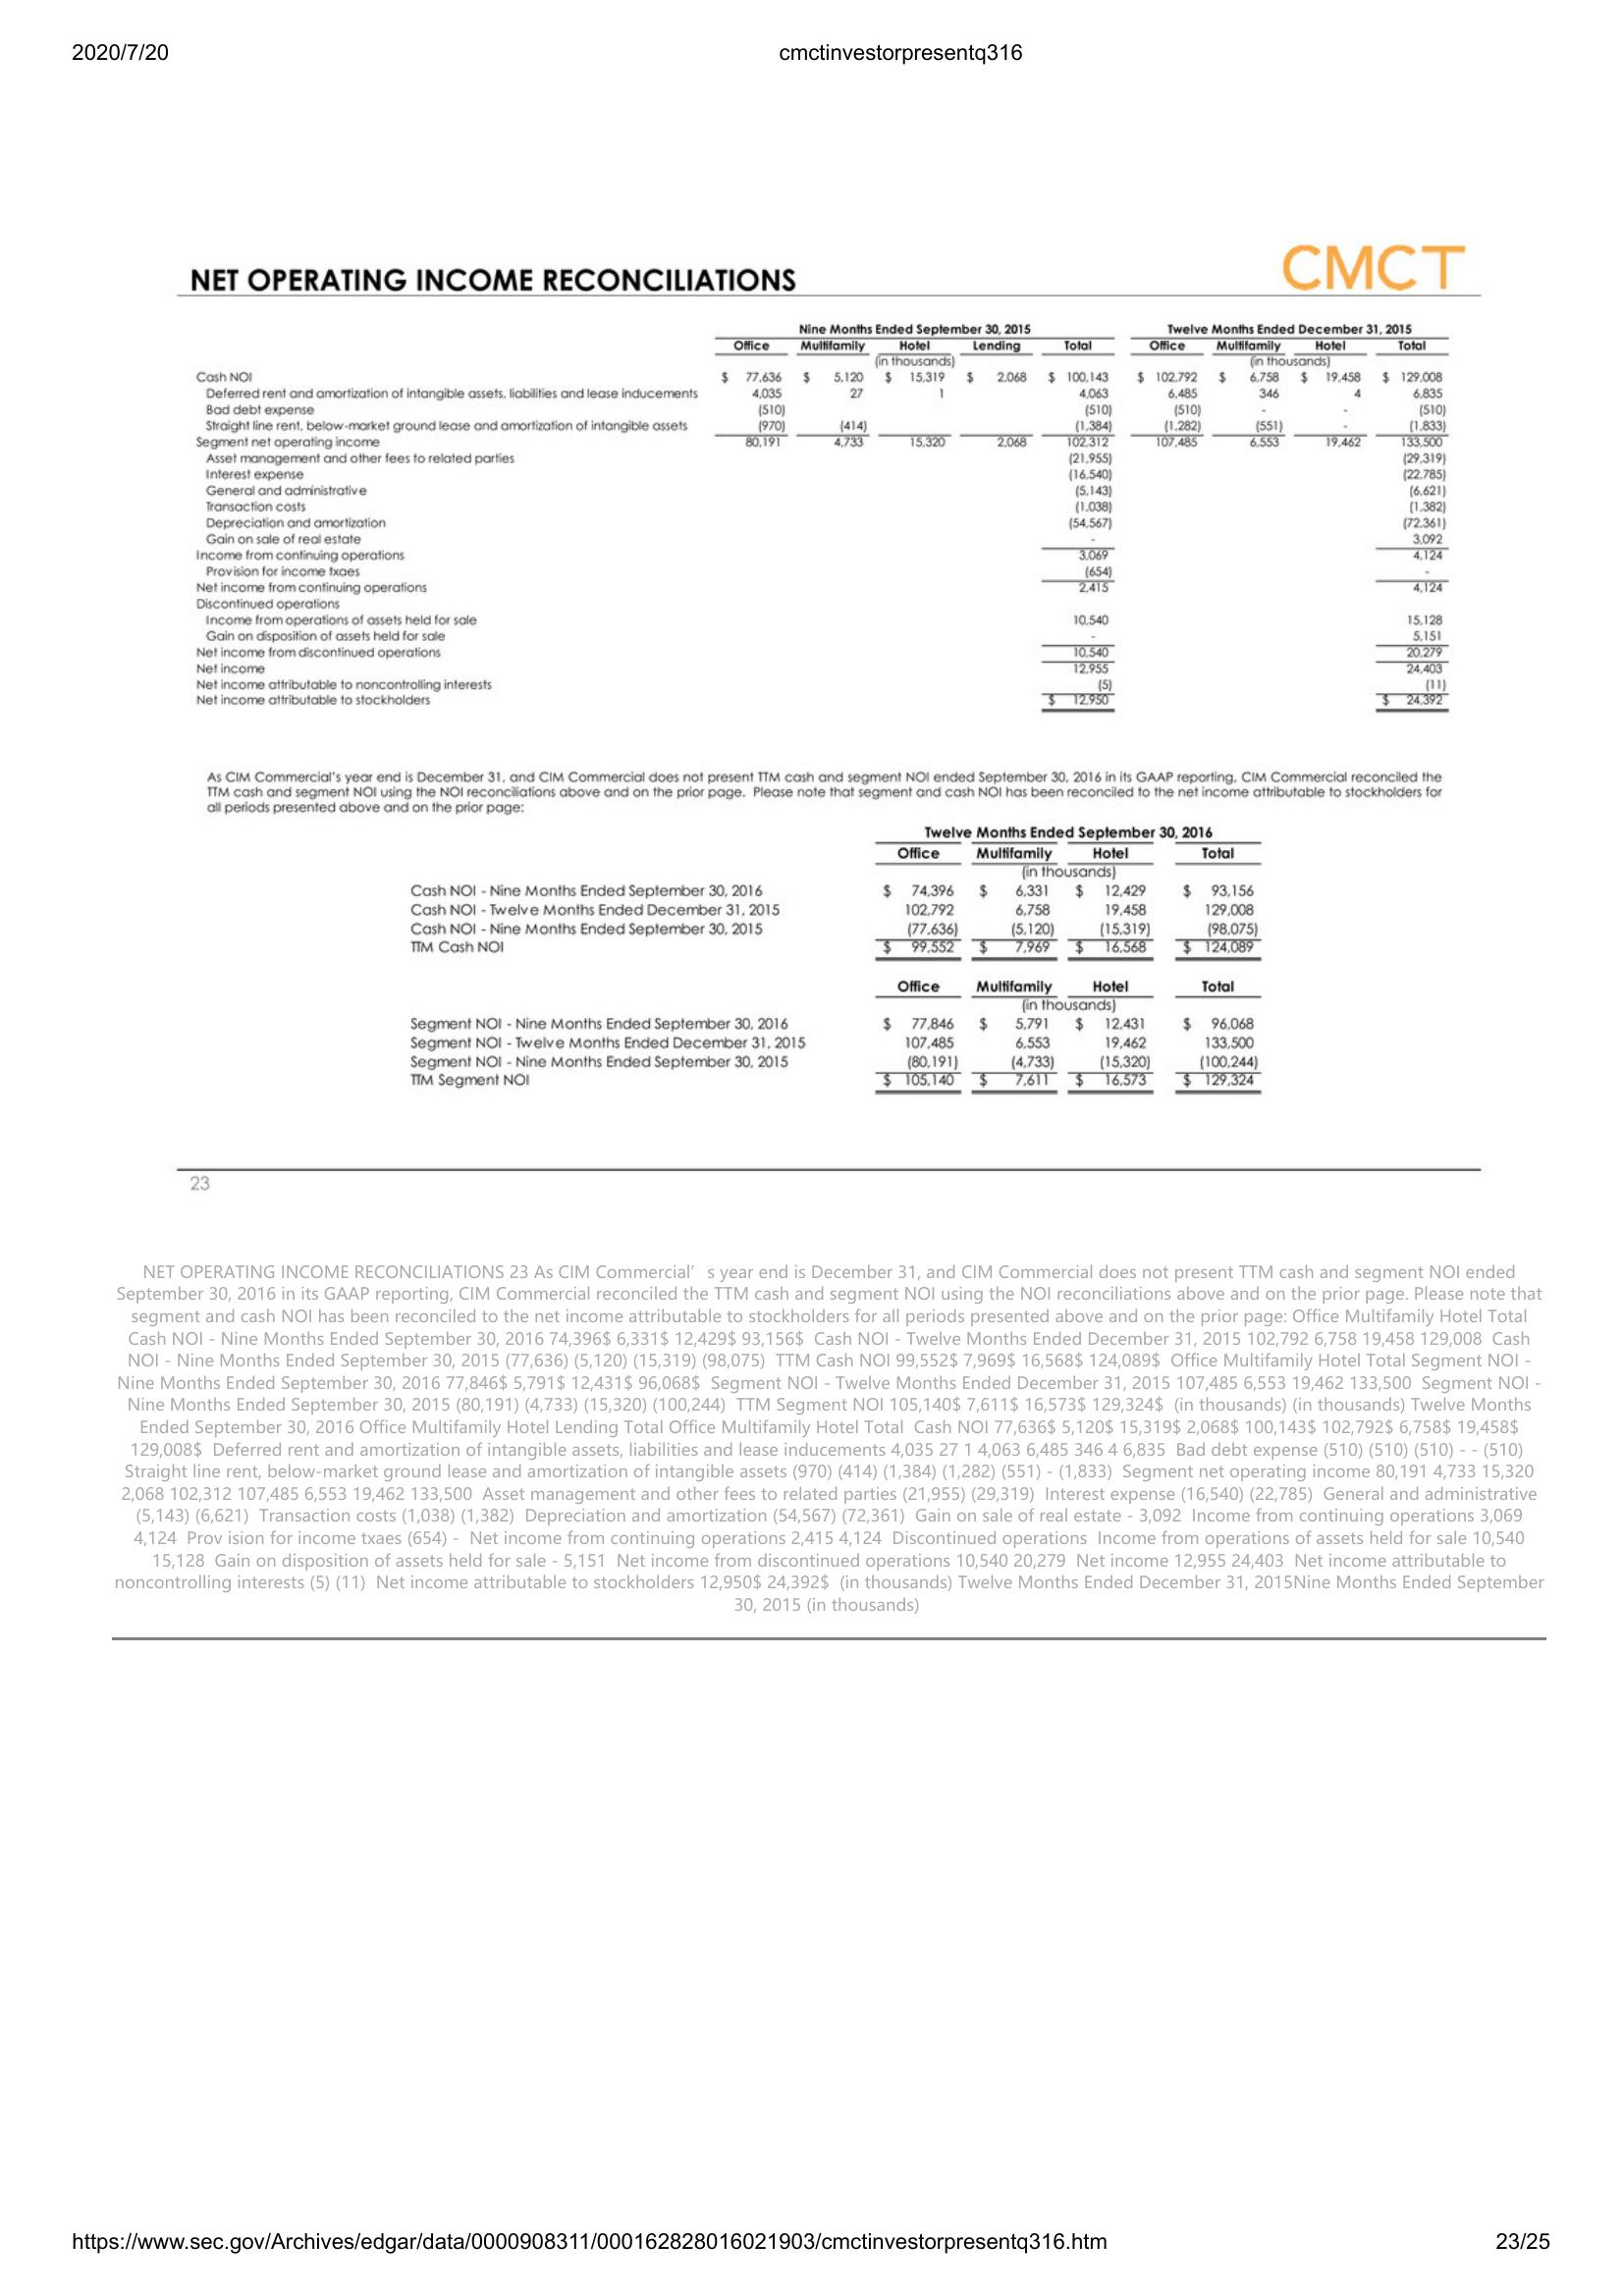table: (188, 316, 1453, 721), (408, 823, 1270, 1101)
